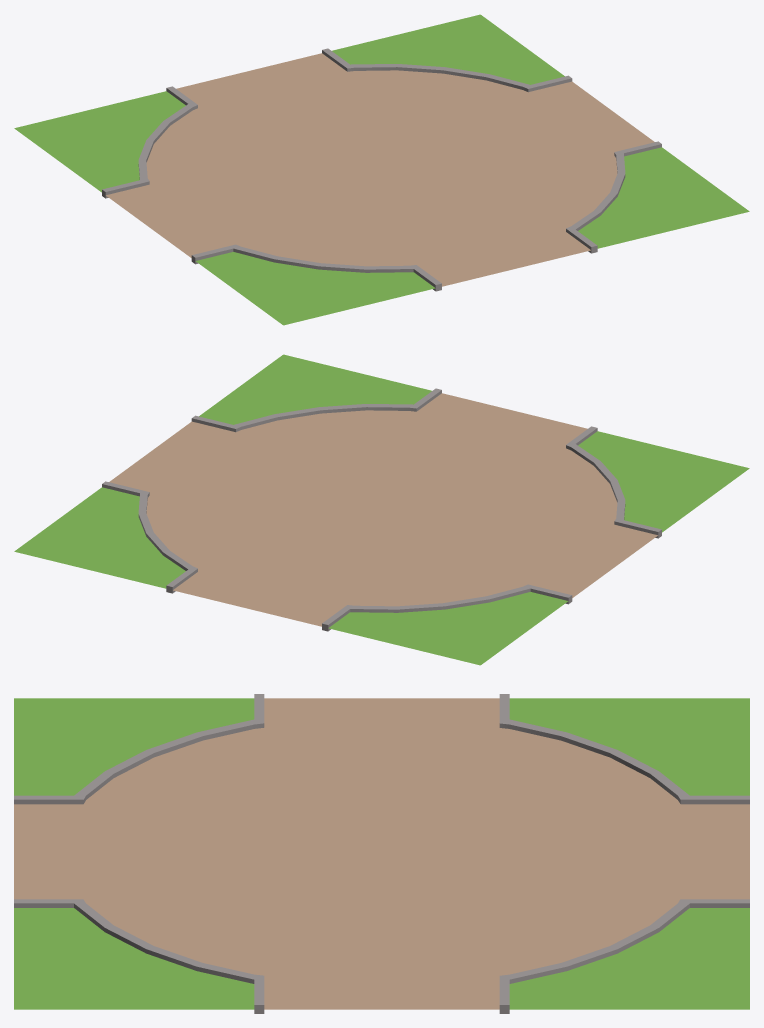
Rendered from park_road_001.fbx.
The picture shows the model from 3 angles, top to bottom: view 1: azimuth 30°, elevation 25°; view 2: azimuth 150°, elevation 25°; view 3: azimuth 270°, elevation 25°; orthographic projection. The views are drawn at different scales.
Visible parts, largest first — view 1: park_road_001; view 2: park_road_001; view 3: park_road_001.
Part boxes in pixels (x1,y1,x2,y2): park_road_001: (14,14,749,325); park_road_001: (14,354,749,665); park_road_001: (14,694,749,1013).
Size of the model in its own units: 1500 by 20 by 1500.
